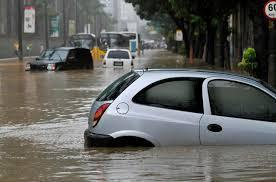water: (0, 48, 275, 181)
